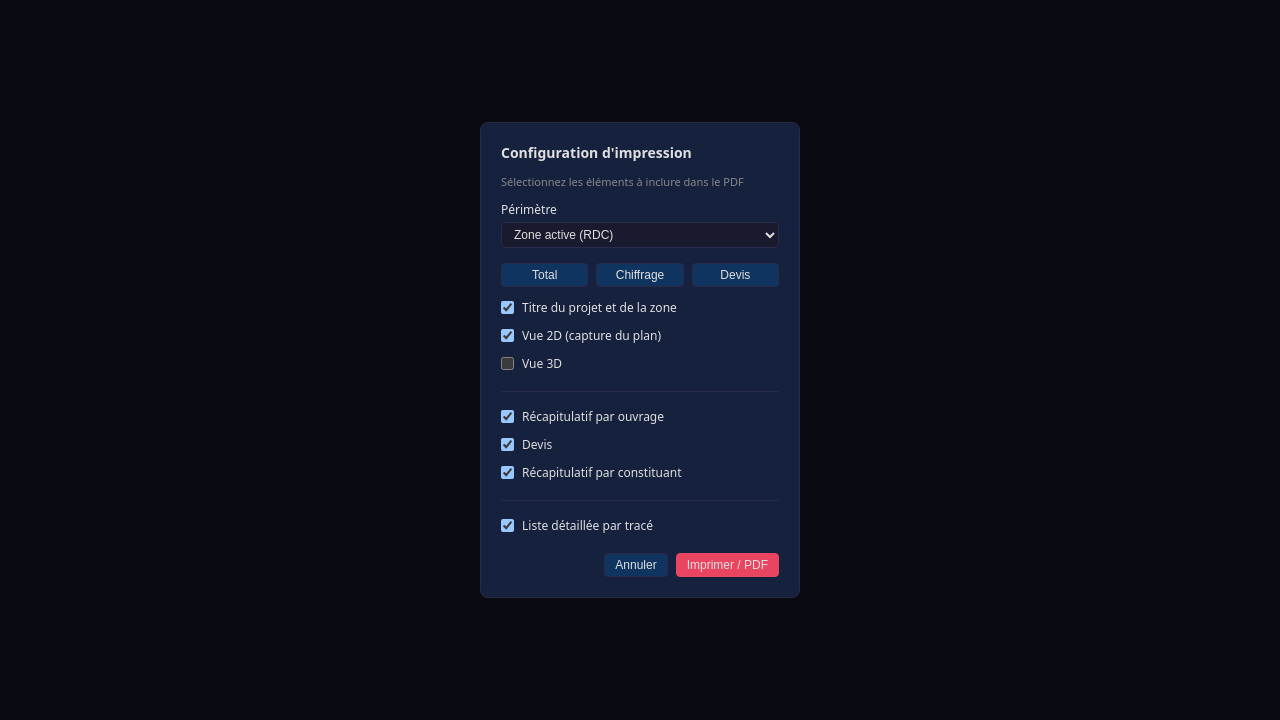
Scenario: PrintDialog › print scope › Should explain and disable the plan views, which only show one zone, once a group is chosen
Select "Maison complète" in the dropdown with test id "print-scope" at (640, 235), box [501,222,779,248]
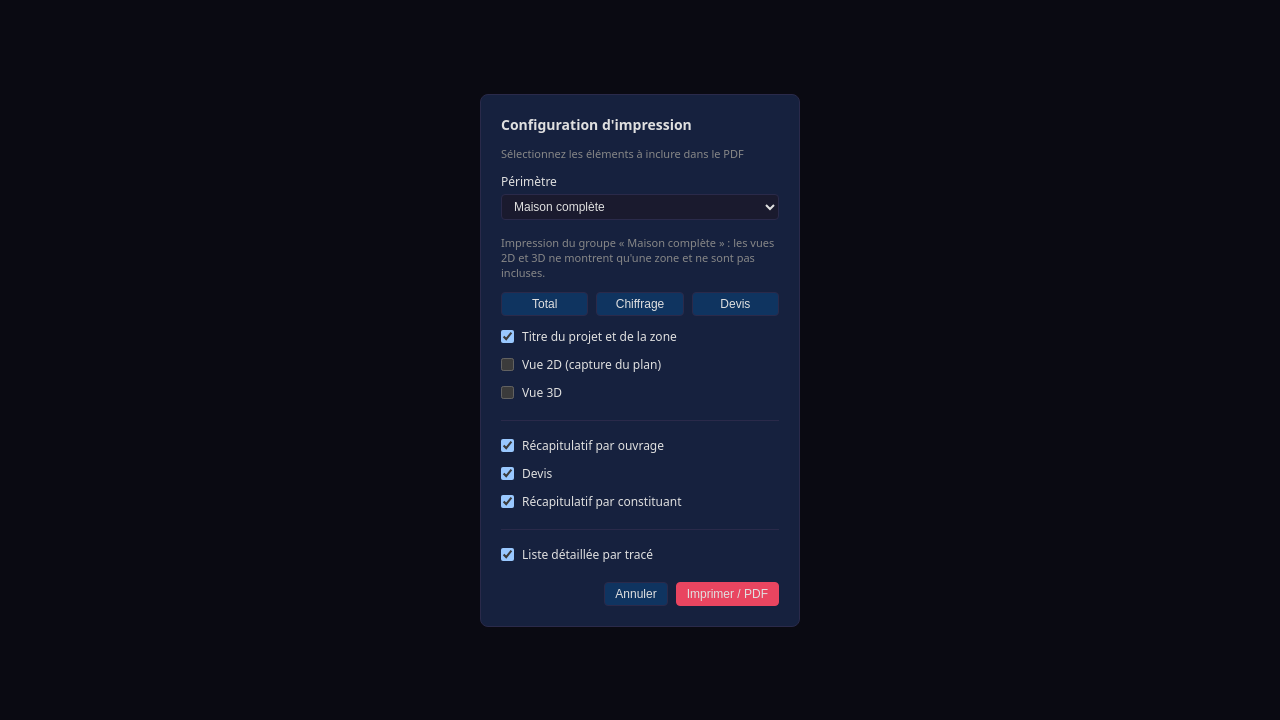
Now the text with test id "group-scope-hint" shows "Maison complète", box [501,234,774,280]
Now the checkbox labelled "Vue 2D (capture du plan)" is disabled, box [501,358,514,370]
Now the checkbox labelled "Vue 3D" is disabled, box [501,386,514,398]
